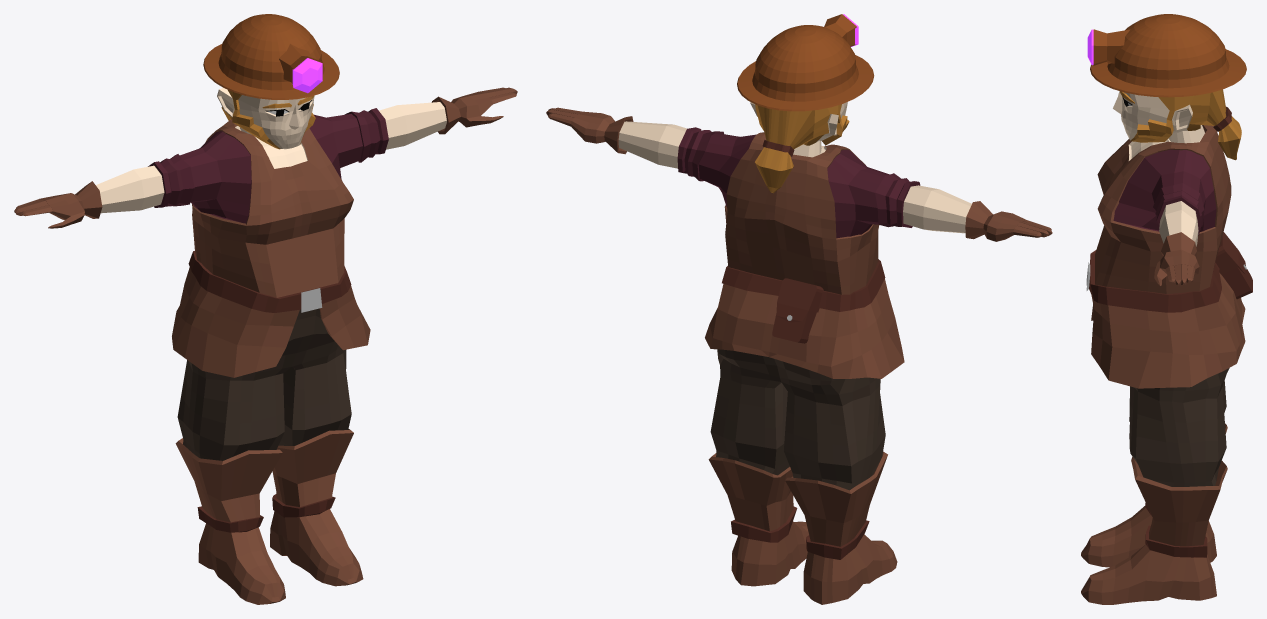
The model's file is Dwarf.fbx.
The picture shows the model from 3 angles, left to right: view 1: azimuth 30°, elevation 25°; view 2: azimuth 150°, elevation 25°; view 3: azimuth 270°, elevation 25°; orthographic projection. The views are drawn at different scales.
Parts seen in each view (by area): view 1: Dwarf, Helmet; view 2: Dwarf, Helmet; view 3: Dwarf, Helmet.
Part boxes in pixels (x1,y1,x2,y2): Dwarf: (14,87,517,604); Helmet: (203,14,339,99); Dwarf: (546,102,1052,604); Helmet: (737,14,874,111); Dwarf: (1081,89,1252,604); Helmet: (1087,14,1246,97).
Bounding box in the file's own units: 191 × 198 × 55.29.
